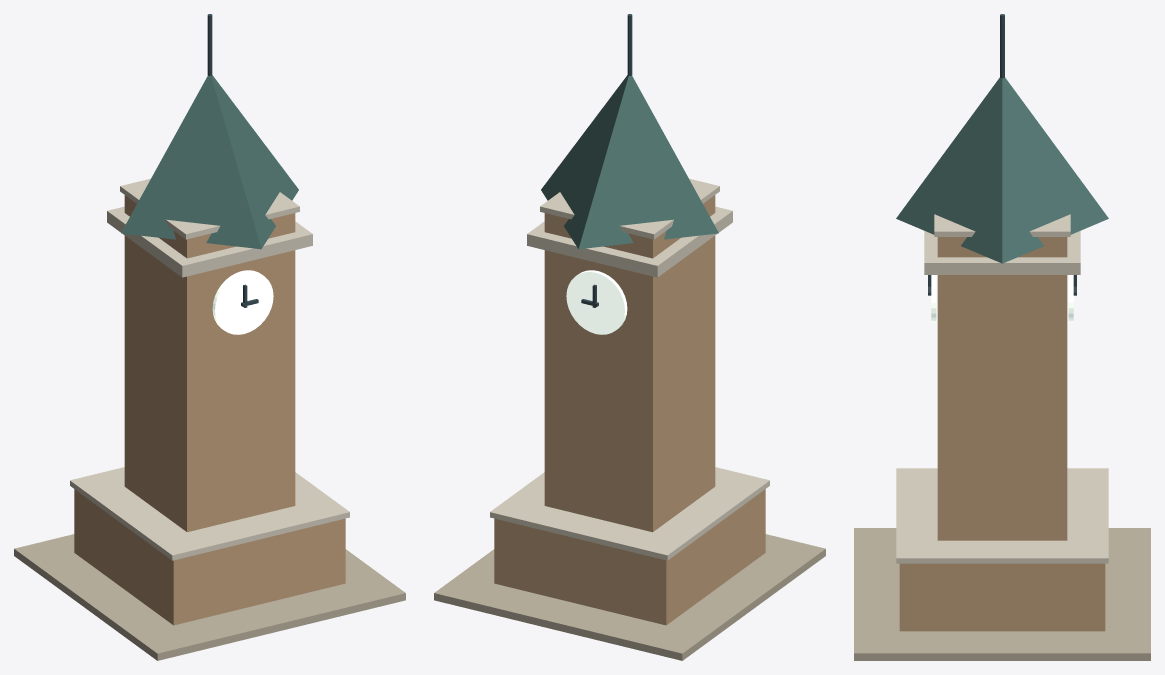
File: clocktower_lod.glb
The picture shows the model from 3 angles, left to right: view 1: azimuth 30°, elevation 25°; view 2: azimuth 150°, elevation 25°; view 3: azimuth 270°, elevation 25°; orthographic projection. The views are drawn at different scales.
Visible parts, largest first — view 1: clocktower_Building_Volume.001, clocktower_Building_Volume, clocktower_Clock_Spire, clocktower_Site_Paving, clocktower_Roof_Coping, clocktower_Belfry_Cornice, clocktower_Clock_Dial.001, clocktower_Roof_Coping.001; view 2: clocktower_Building_Volume.001, clocktower_Building_Volume, clocktower_Clock_Spire, clocktower_Site_Paving, clocktower_Roof_Coping, clocktower_Belfry_Cornice, clocktower_Clock_Dial, clocktower_Roof_Coping.001; view 3: clocktower_Building_Volume.001, clocktower_Clock_Spire, clocktower_Site_Paving, clocktower_Building_Volume, clocktower_Roof_Coping, clocktower_Belfry_Cornice, clocktower_Roof_Coping.001.
Boxes of the visible parts, x1,y1,x2,y2 form: clocktower_Building_Volume.001: (124,195,295,532); clocktower_Building_Volume: (74,489,345,625); clocktower_Clock_Spire: (121,75,298,249); clocktower_Site_Paving: (14,534,405,660); clocktower_Roof_Coping: (70,467,349,560); clocktower_Belfry_Cornice: (107,206,312,277); clocktower_Clock_Dial.001: (212,270,273,334); clocktower_Roof_Coping.001: (120,178,299,239); clocktower_Building_Volume.001: (544,195,715,532); clocktower_Building_Volume: (494,489,765,625); clocktower_Clock_Spire: (541,75,718,249); clocktower_Site_Paving: (434,534,825,660); clocktower_Roof_Coping: (490,467,769,560); clocktower_Belfry_Cornice: (527,206,732,277); clocktower_Clock_Dial: (566,270,627,334); clocktower_Roof_Coping.001: (540,178,719,239); clocktower_Building_Volume.001: (937,237,1067,540); clocktower_Clock_Spire: (896,77,1108,263); clocktower_Site_Paving: (854,528,1150,660); clocktower_Building_Volume: (899,563,1105,631); clocktower_Roof_Coping: (896,468,1108,563); clocktower_Belfry_Cornice: (924,231,1080,274); clocktower_Roof_Coping.001: (934,214,1070,236).
Bounding box in the file's own units: 7.8 × 16.9 × 7.8.
